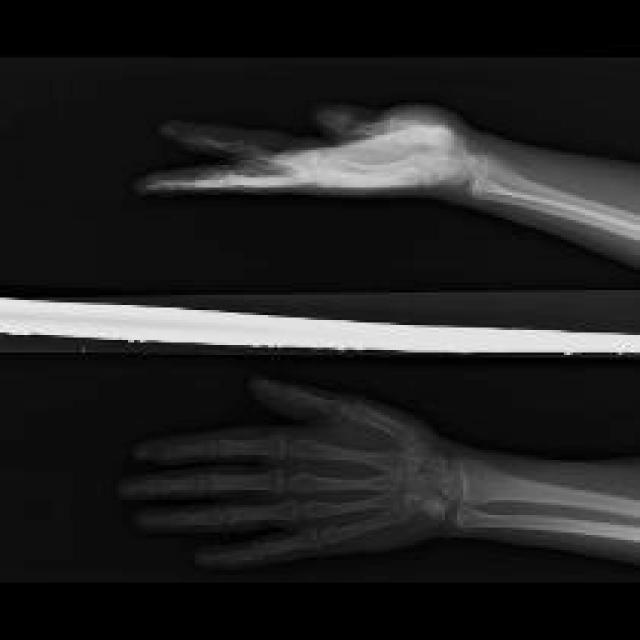normal: (119, 379, 638, 566), (144, 105, 636, 263)
